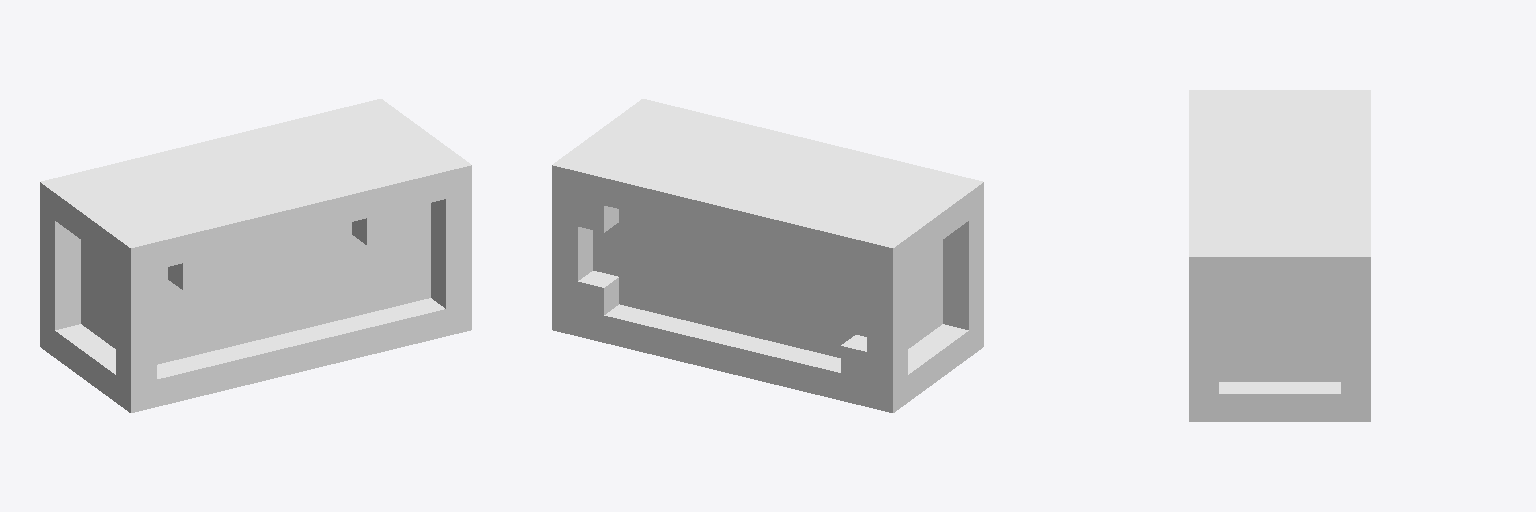
File: chest_inf.obj
3 renders of one model, left to right at view 1: azimuth 30°, elevation 25°; view 2: azimuth 150°, elevation 25°; view 3: azimuth 270°, elevation 25°, orthographic.
Size of the model in its own units: 13 by 6 by 6.